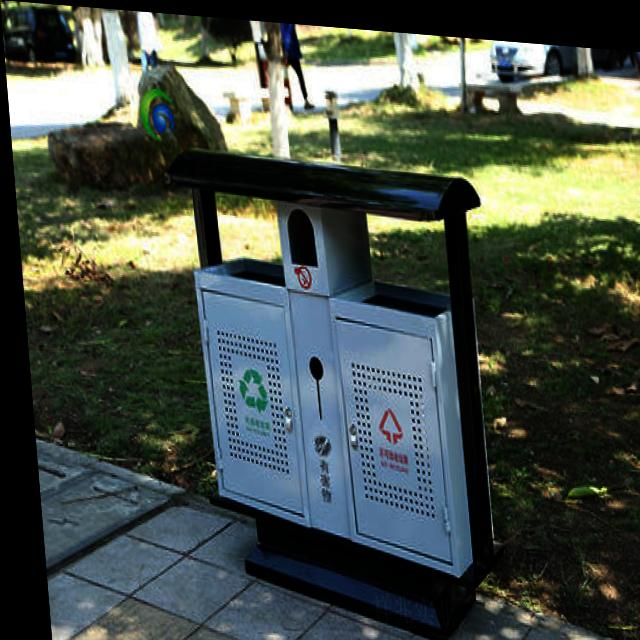garbage_bin: (158, 140, 505, 637)
